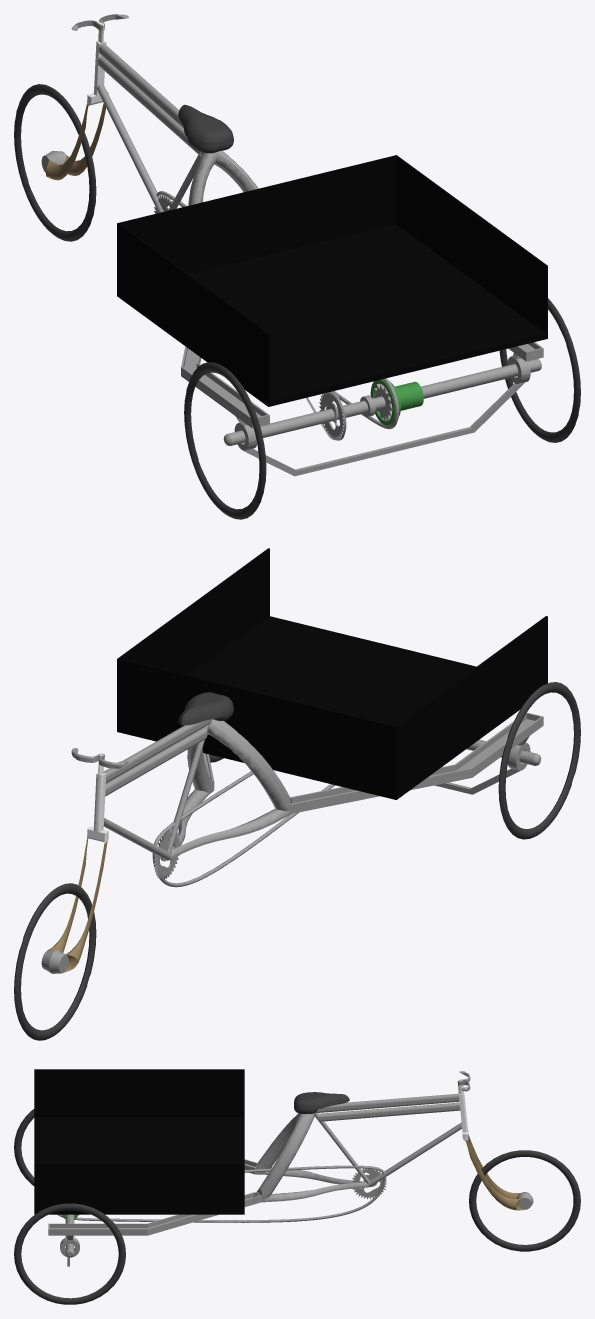
File: direct-motor-drive.glb
3 views of the same model, one above another, from view 1: azimuth 30°, elevation 25°; view 2: azimuth 150°, elevation 25°; view 3: azimuth 270°, elevation 25° (orthographic). The views are drawn at different scales.
Parts seen in each view (by area): view 1: empty_33, empty_21, empty_23, empty_2, empty_30, empty_24, empty_15, empty_13, empty_60, empty_55, empty_12, empty_14 (+3 smaller); view 2: empty_33, empty_23, empty_2, empty_60, empty_13, empty_17, empty_55, empty_18, empty_15, empty_31, empty_12, empty_57 (+4 smaller); view 3: empty_33, empty_24, empty_2, empty_60, empty_13, empty_16, empty_31, empty_17, empty_12, empty_15, empty_14, empty_23 (+4 smaller).
Boxes of the visible parts, box(x1,y1,x2,y2) form: empty_33: box(117, 155, 547, 406); empty_21: box(223, 359, 541, 445); empty_23: box(184, 362, 266, 519); empty_2: box(14, 84, 96, 241); empty_30: box(243, 382, 524, 476); empty_24: box(499, 298, 580, 442); empty_15: box(178, 104, 233, 153); empty_13: box(98, 56, 202, 210); empty_60: box(188, 151, 258, 205); empty_55: box(181, 346, 269, 427); empty_12: box(99, 43, 183, 128); empty_14: box(97, 83, 163, 212); empty_33: box(117, 548, 547, 799); empty_23: box(498, 682, 580, 839); empty_2: box(14, 883, 96, 1040); empty_60: box(187, 719, 290, 808); empty_13: box(105, 724, 209, 854); empty_17: box(170, 789, 290, 859); empty_55: box(417, 712, 543, 785); empty_18: box(292, 719, 543, 810); empty_15: box(178, 692, 233, 725); empty_31: box(152, 771, 334, 887); empty_12: box(103, 719, 211, 782); empty_57: box(275, 787, 371, 813); empty_33: box(34, 1069, 244, 1214); empty_24: box(14, 1203, 125, 1304); empty_2: box(469, 1150, 580, 1251); empty_60: box(256, 1113, 314, 1195); empty_13: box(313, 1102, 460, 1183); empty_16: box(48, 1214, 188, 1235); empty_31: box(57, 1165, 386, 1222); empty_17: box(262, 1167, 368, 1202); empty_12: box(315, 1093, 459, 1112); empty_15: box(294, 1092, 349, 1114); empty_14: box(367, 1122, 461, 1187); empty_23: box(14, 1109, 34, 1185).
Size of the model in its own units: 0.1831 by 0.135 by 0.4046.
